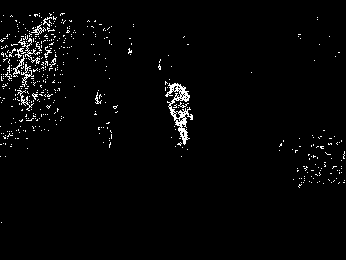person: (164, 82, 193, 152)
